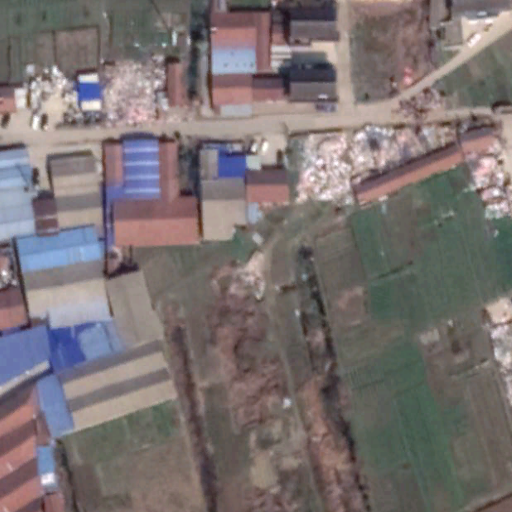msw: (297, 127, 461, 205), (106, 61, 163, 123)
